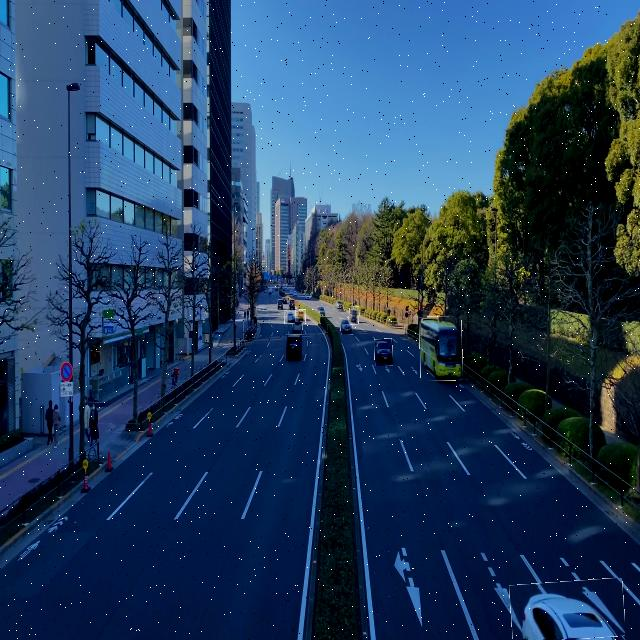Bus: (419, 317, 463, 381)
Car: (510, 580, 624, 640), (375, 339, 393, 366), (286, 334, 302, 361), (341, 318, 353, 335), (349, 306, 359, 325), (292, 316, 303, 333), (284, 310, 295, 324), (295, 309, 306, 322), (334, 302, 344, 312)
